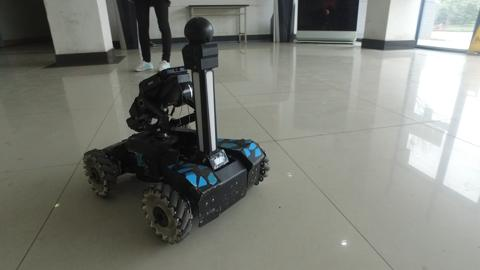chariot: (82, 15, 271, 243)
